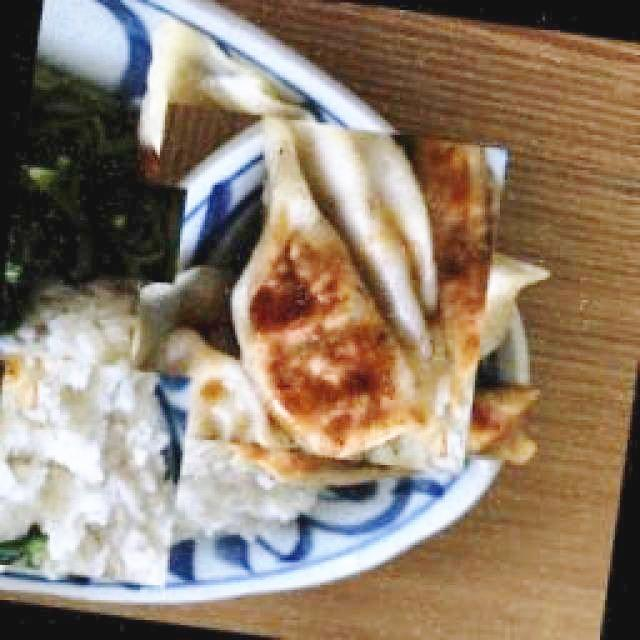fried_dumplings: (229, 127, 442, 460), (302, 126, 435, 355), (155, 329, 289, 446)
rice: (0, 291, 300, 574)
